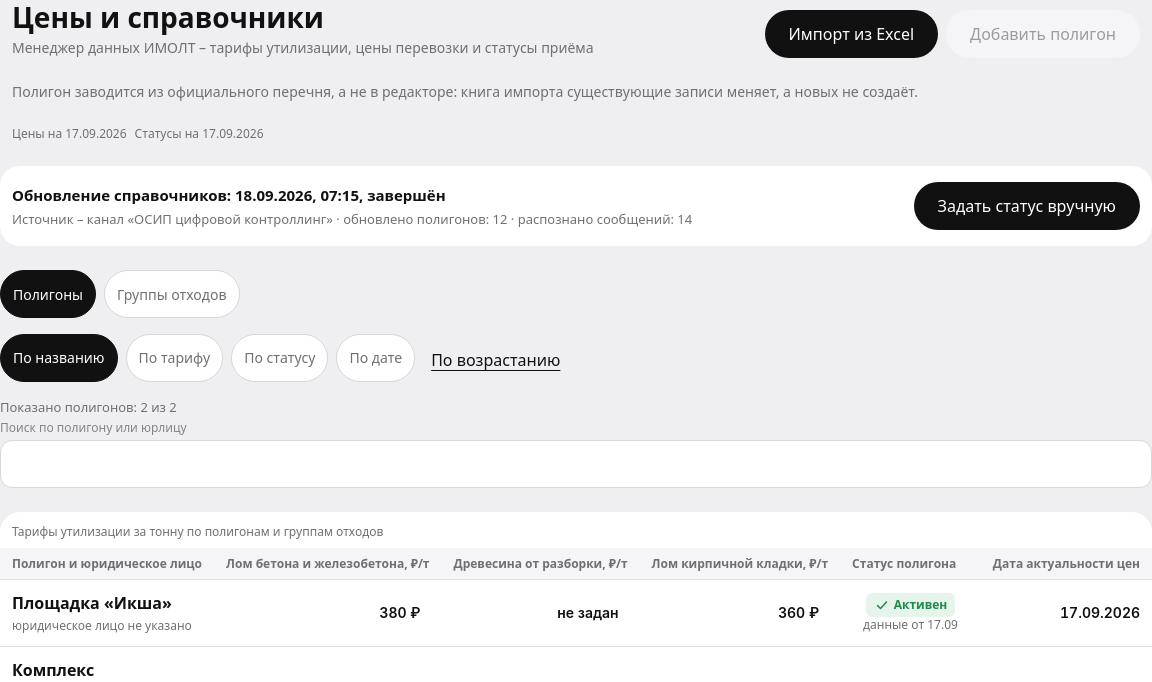
полоса отбора редактора цен › счётчик считает показанные записи из найденных, а не длину строки поиска
Expected: the message with class "imolt-references-count" reads "Показано полигонов: 2 из 2", [0,398,177,416]
Type "Икша" into the field labelled "Поиск по полигону или юрлицу" at (576, 464), box [0,440,1151,488]
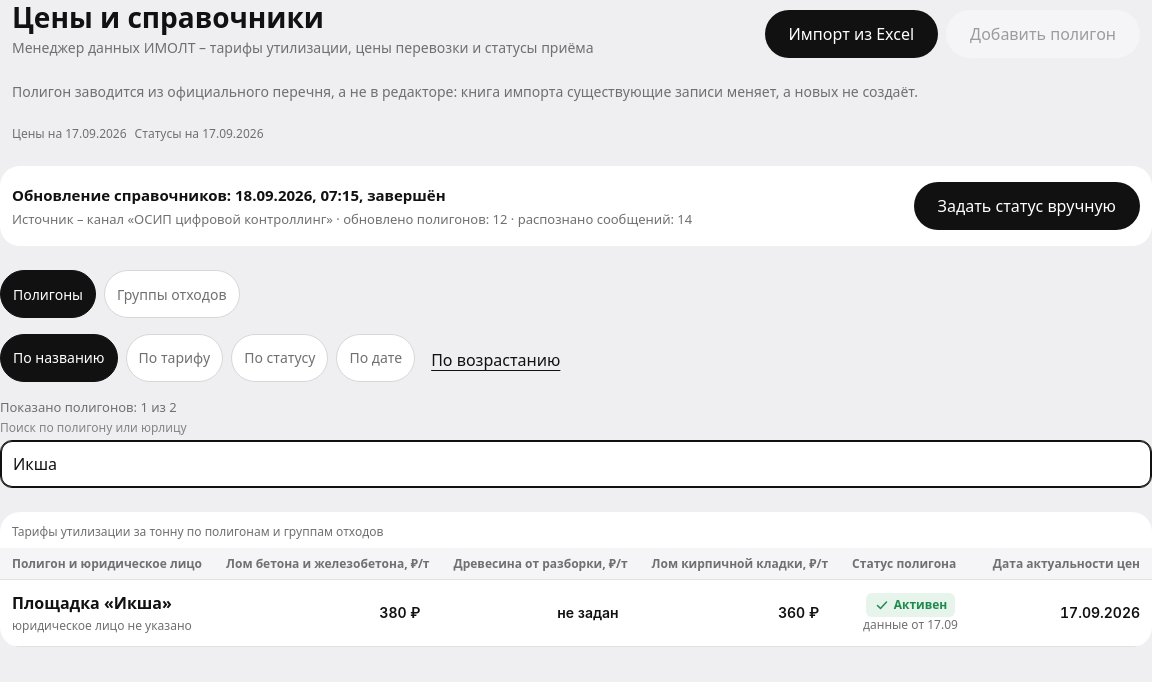
Result: the message with class "imolt-references-count" reads "Показано полигонов: 1 из 2" at [0,398,177,416]
